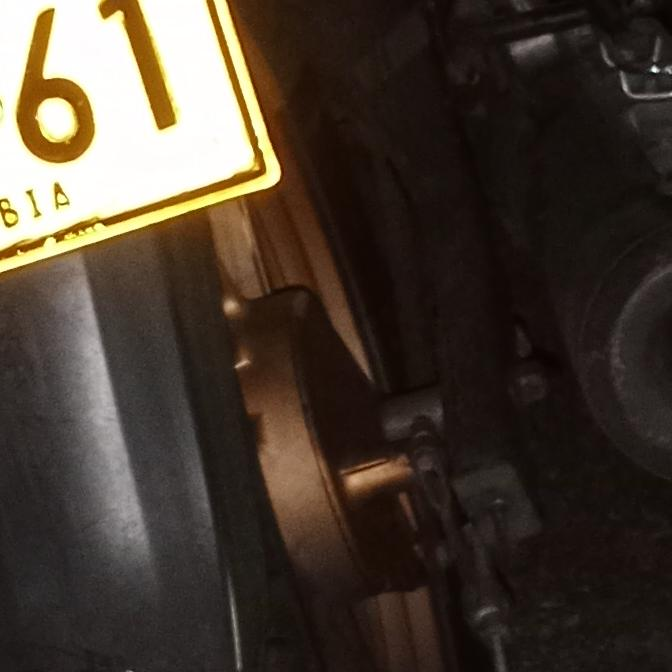plates: (0, 0, 274, 275)
